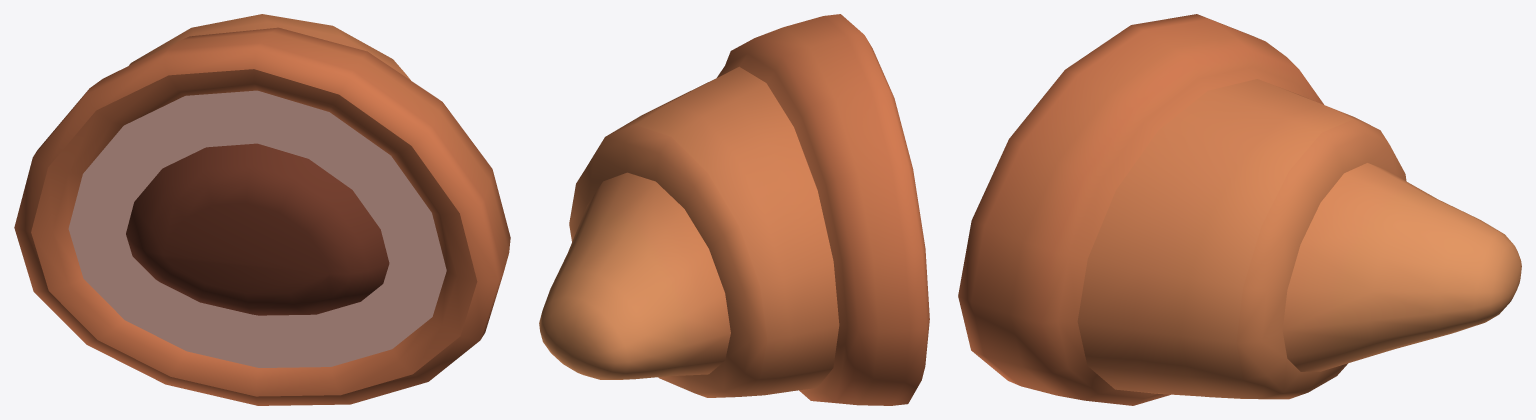
Rendered from Croissant_V1_01.fbx.
3 renders of one model, left to right at view 1: azimuth 30°, elevation 25°; view 2: azimuth 150°, elevation 25°; view 3: azimuth 270°, elevation 25°, orthographic. The views are drawn at different scales.
Parts seen in each view (by area): view 1: Croissant_V1_01; view 2: Croissant_V1_01; view 3: Croissant_V1_01.
Boxes of the visible parts, x1,y1,x2,y2 form: Croissant_V1_01: [14, 14, 510, 405]; Croissant_V1_01: [539, 14, 929, 405]; Croissant_V1_01: [958, 14, 1521, 405].
Size of the model in its own units: 36.23 by 30.87 by 45.58.
